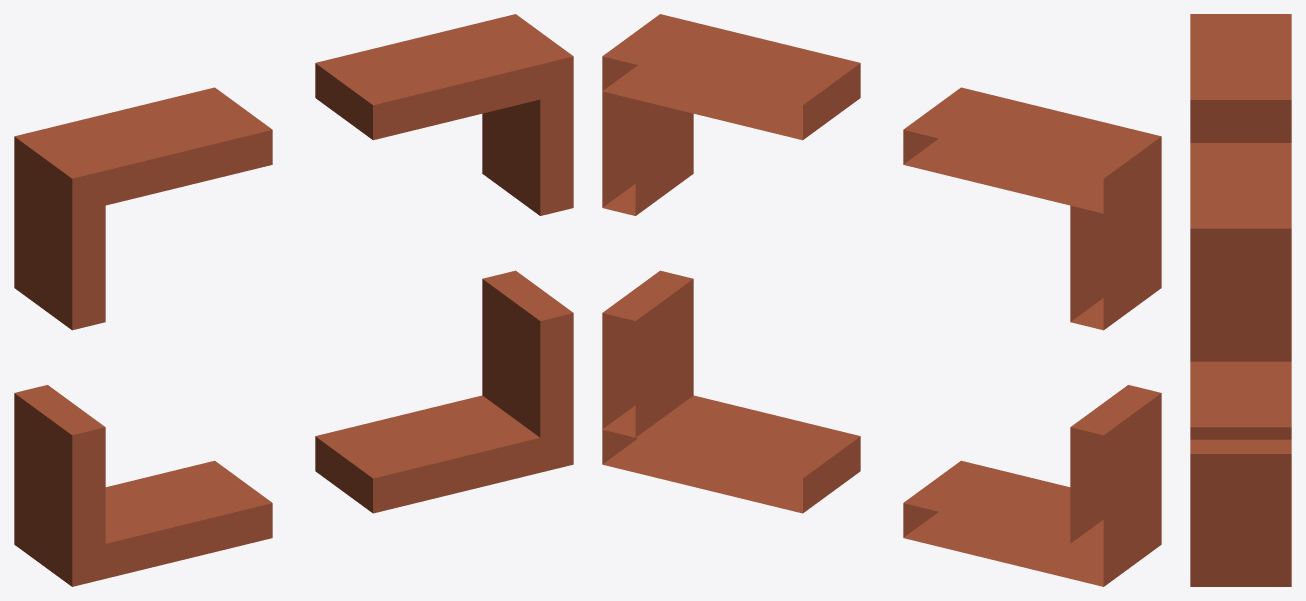
Rendered from construction_0.glb.
3 renders of one model, left to right at view 1: azimuth 30°, elevation 25°; view 2: azimuth 150°, elevation 25°; view 3: azimuth 270°, elevation 25°, orthographic. The views are drawn at different scales.
Visible parts, largest first — view 1: c0; view 2: c0; view 3: c0.
Boxes of the visible parts, <box> form: c0: <box>14,14,573,586</box>; c0: <box>602,14,1161,586</box>; c0: <box>1190,14,1291,586</box>.
Bounding box in the file's own units: 9 × 7 × 1.8.
